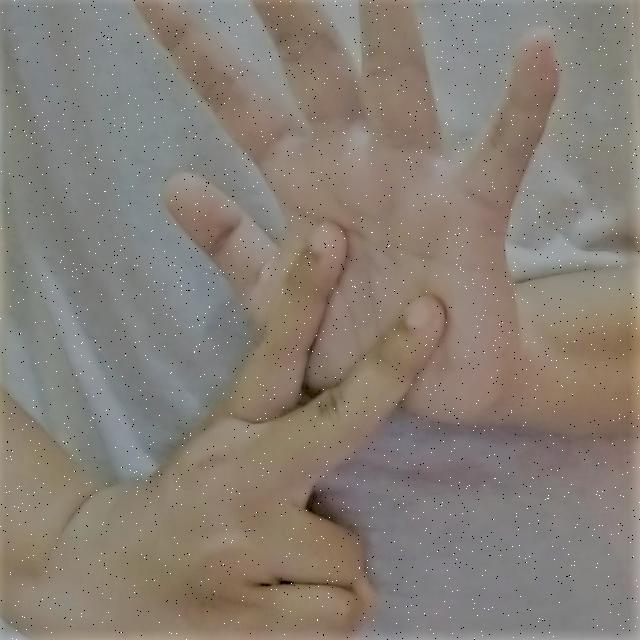N: (122, 6, 568, 481)
